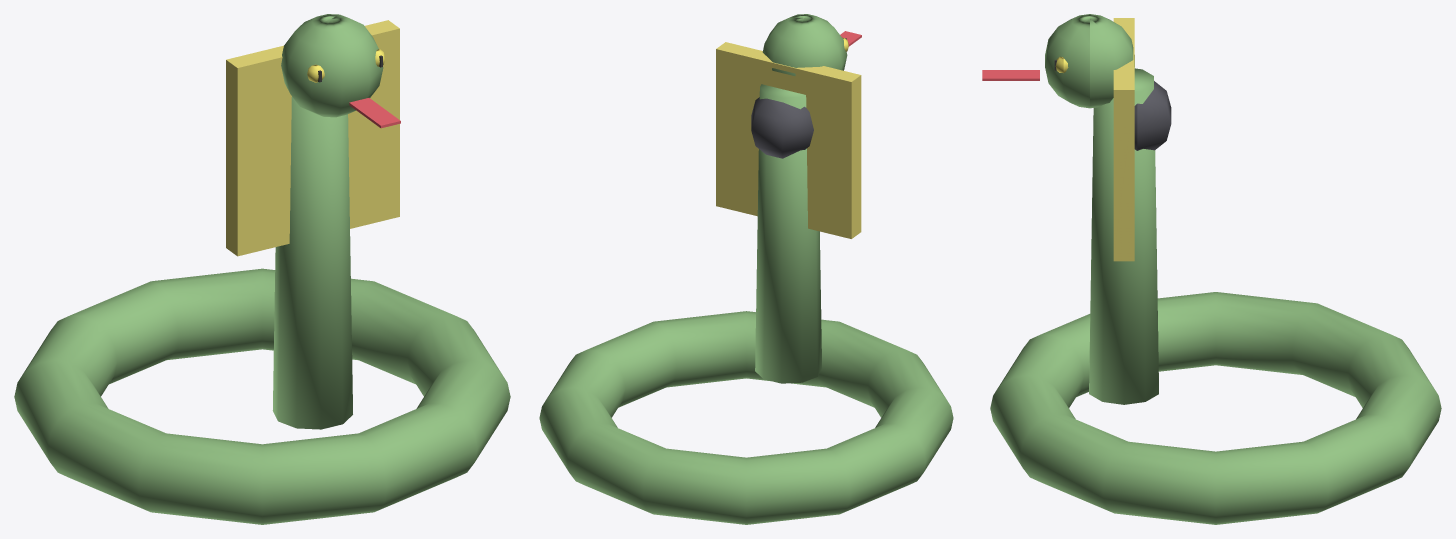
Rendered from bfdaa0ee-785f-4df0-a75d-4fd6998749d0.glb.
The picture shows the model from 3 angles, left to right: view 1: azimuth 30°, elevation 25°; view 2: azimuth 150°, elevation 25°; view 3: azimuth 270°, elevation 25°; orthographic projection. The views are drawn at different scales.
Parts seen in each view (by area): view 1: Generated3DMesh; view 2: Generated3DMesh; view 3: Generated3DMesh.
Boxes of the visible parts, <box> form: Generated3DMesh: <box>14,14,510,524</box>; Generated3DMesh: <box>539,14,953,524</box>; Generated3DMesh: <box>982,14,1441,524</box>.
Bounding box in the file's own units: 1.72 × 1.78 × 1.75.
